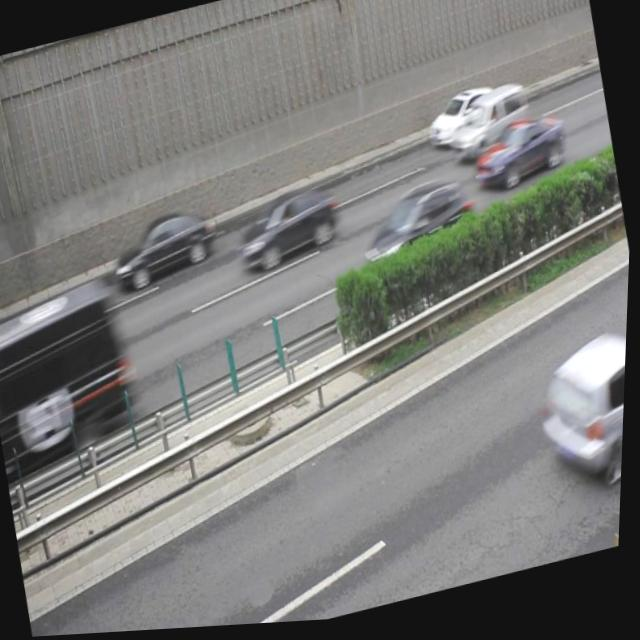car: (531, 333, 629, 500), (355, 180, 482, 290), (231, 182, 349, 282), (110, 206, 221, 296), (469, 115, 572, 199), (444, 85, 536, 168), (421, 85, 506, 156)
truck: (0, 277, 147, 484)
